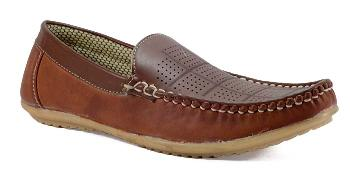Footwear: (17, 17, 342, 163)
